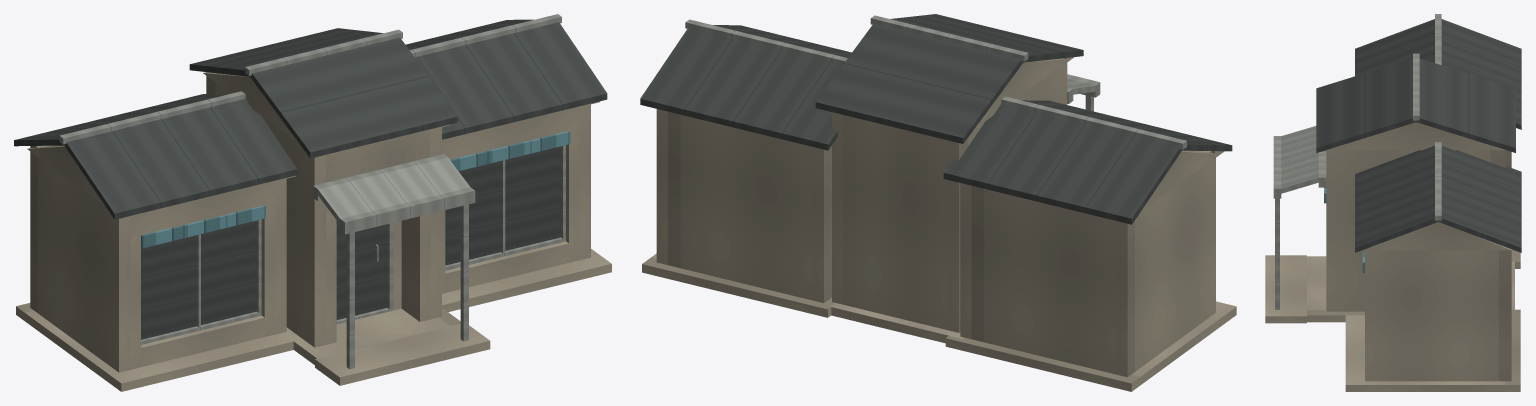
Rendered from port-of-spain.glb.
3 views of the same model, side by side, from view 1: azimuth 30°, elevation 25°; view 2: azimuth 150°, elevation 25°; view 3: azimuth 270°, elevation 25° (orthographic). The views are drawn at different scales.
Parts seen in each view (by area): view 1: port-of-spain; view 2: port-of-spain; view 3: port-of-spain.
Boxes of the visible parts, x1,y1,x2,y2 form: port-of-spain: [14, 14, 611, 391]; port-of-spain: [640, 14, 1236, 391]; port-of-spain: [1265, 14, 1521, 391].
Bounding box in the file's own units: 7.69 × 3.7 × 4.13.
1 material, 1 textured.
